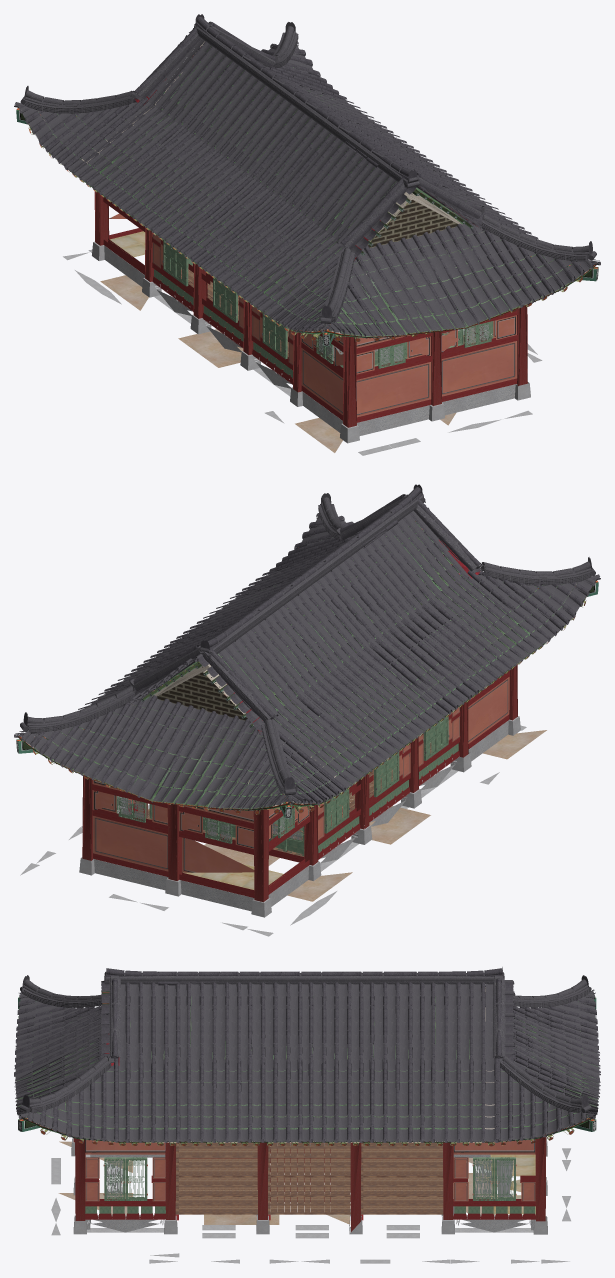
The model's file is namgun.glb.
3 renders of one model, top to bottom at view 1: azimuth 30°, elevation 25°; view 2: azimuth 150°, elevation 25°; view 3: azimuth 270°, elevation 25°, orthographic. The views are drawn at different scales.
Parts seen in each view (by area): view 1: SM_Namgunyeong, SM_Namgunyeong_MI_R_Roof1_0.004, SM_Namgunyeong_MI_R_Roof1_0.003, SM_Namgunyeong_MI_R_Roof1_0.001, SM_Namgunyeong_MI_R_Roof1_0.009, SM_Namgunyeong_MI_R_Roof1_0.008, SM_Namgunyeong_MI_R_Roof1_0.002, SM_Namgunyeong_MI_R_Roof1_0.010, SM_Namgunyeong_MI_KoreanWood_5.001_0.002, SM_Namgunyeong_MI_R_Roof1_0.006, SM_Namgunyeong_MI_R_Roof1_0.005, SM_Namgunyeong_MI_R_Roof1_0.007 (+1 smaller); view 2: SM_Namgunyeong, SM_Namgunyeong_MI_R_Roof1_0.003, SM_Namgunyeong_MI_R_Roof1_0.004, SM_Namgunyeong_MI_R_Roof1_0.001, SM_Namgunyeong_MI_R_Roof1_0.009, SM_Namgunyeong_MI_R_Roof1_0.002, SM_Namgunyeong_MI_R_Roof1_0.007, SM_Namgunyeong_MI_R_Roof1_0.010, SM_Namgunyeong_MI_R_Roof1_0.008, SM_Namgunyeong_MI_KoreanWood_5.001_0.002, SM_Namgunyeong_MI_KoreanWood_5.001_0.001, SM_Namgunyeong_MI_R_Roof1_0.006 (+1 smaller); view 3: SM_Namgunyeong, SM_Namgunyeong_MI_R_Roof1_0.005, SM_Namgunyeong_MI_R_Roof1_0.006, SM_Namgunyeong_MI_R_Roof1_0.007, SM_Namgunyeong_MI_R_Roof1_0.008, SM_Namgunyeong_MI_R_Roof1_0.001, SM_Namgunyeong_MI_R_Roof1_0.009, SM_Namgunyeong_MI_R_Roof1_0.002, SM_Namgunyeong_MI_R_Roof1_0.010, SM_Namgunyeong_MI_R_Roof1_0.004, SM_Namgunyeong_MI_R_Roof1_0.003, SM_Namgunyeong_MI_KoreanWood_5.001_0.002.
Boxes of the visible parts, x1,y1,x2,y2 form: SM_Namgunyeong: [16, 38, 598, 455]; SM_Namgunyeong_MI_R_Roof1_0.004: [79, 22, 485, 333]; SM_Namgunyeong_MI_R_Roof1_0.003: [73, 41, 596, 323]; SM_Namgunyeong_MI_R_Roof1_0.001: [170, 59, 519, 329]; SM_Namgunyeong_MI_R_Roof1_0.009: [20, 22, 408, 338]; SM_Namgunyeong_MI_R_Roof1_0.008: [272, 132, 600, 338]; SM_Namgunyeong_MI_R_Roof1_0.002: [14, 14, 419, 322]; SM_Namgunyeong_MI_R_Roof1_0.010: [130, 21, 345, 99]; SM_Namgunyeong_MI_KoreanWood_5.001_0.002: [203, 278, 405, 377]; SM_Namgunyeong_MI_R_Roof1_0.006: [310, 99, 504, 230]; SM_Namgunyeong_MI_R_Roof1_0.005: [270, 70, 512, 223]; SM_Namgunyeong_MI_R_Roof1_0.007: [280, 90, 538, 239]; SM_Namgunyeong: [16, 521, 598, 936]; SM_Namgunyeong_MI_R_Roof1_0.003: [218, 493, 595, 786]; SM_Namgunyeong_MI_R_Roof1_0.004: [129, 494, 515, 781]; SM_Namgunyeong_MI_R_Roof1_0.001: [153, 535, 482, 806]; SM_Namgunyeong_MI_R_Roof1_0.009: [14, 498, 593, 795]; SM_Namgunyeong_MI_R_Roof1_0.002: [129, 484, 591, 810]; SM_Namgunyeong_MI_R_Roof1_0.007: [103, 552, 331, 798]; SM_Namgunyeong_MI_R_Roof1_0.010: [17, 645, 278, 780]; SM_Namgunyeong_MI_R_Roof1_0.008: [93, 511, 600, 799]; SM_Namgunyeong_MI_KoreanWood_5.001_0.002: [116, 716, 458, 843]; SM_Namgunyeong_MI_KoreanWood_5.001_0.001: [118, 789, 359, 855]; SM_Namgunyeong_MI_R_Roof1_0.006: [104, 547, 338, 692]; SM_Namgunyeong: [16, 985, 598, 1263]; SM_Namgunyeong_MI_R_Roof1_0.005: [177, 971, 499, 1142]; SM_Namgunyeong_MI_R_Roof1_0.006: [101, 982, 424, 1142]; SM_Namgunyeong_MI_R_Roof1_0.007: [116, 979, 600, 1142]; SM_Namgunyeong_MI_R_Roof1_0.008: [15, 971, 599, 1142]; SM_Namgunyeong_MI_R_Roof1_0.001: [14, 971, 600, 1099]; SM_Namgunyeong_MI_R_Roof1_0.009: [15, 971, 597, 1140]; SM_Namgunyeong_MI_R_Roof1_0.002: [22, 967, 599, 1082]; SM_Namgunyeong_MI_R_Roof1_0.010: [493, 976, 598, 1141]; SM_Namgunyeong_MI_R_Roof1_0.004: [14, 973, 502, 1081]; SM_Namgunyeong_MI_R_Roof1_0.003: [20, 975, 111, 1112]; SM_Namgunyeong_MI_KoreanWood_5.001_0.002: [454, 1157, 535, 1213].
Size of the model in its own units: 10.3 by 8.31 by 19.38.
Materials: 22 (21 with a texture image).
